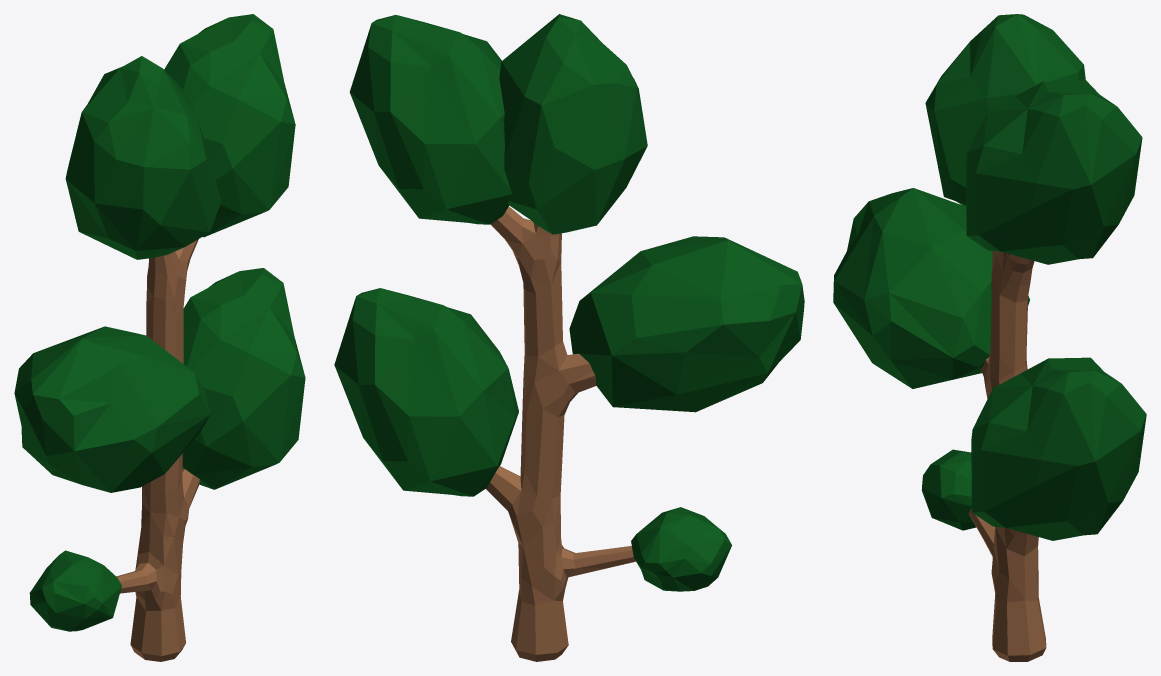
File: tree-summer-complete-26-016.glb
3 renders of one model, left to right at view 1: azimuth 30°, elevation 25°; view 2: azimuth 150°, elevation 25°; view 3: azimuth 270°, elevation 25°, orthographic. The views are drawn at different scales.
Visible parts, largest first — view 1: Tree 26_75; view 2: Tree 26_75; view 3: Tree 26_75.
Boxes of the visible parts, bbox=[...] form: Tree 26_75: bbox=[14, 14, 305, 661]; Tree 26_75: bbox=[334, 14, 804, 661]; Tree 26_75: bbox=[833, 14, 1146, 661].
Size of the model in its own units: 1.25 by 2.09 by 0.9391.
